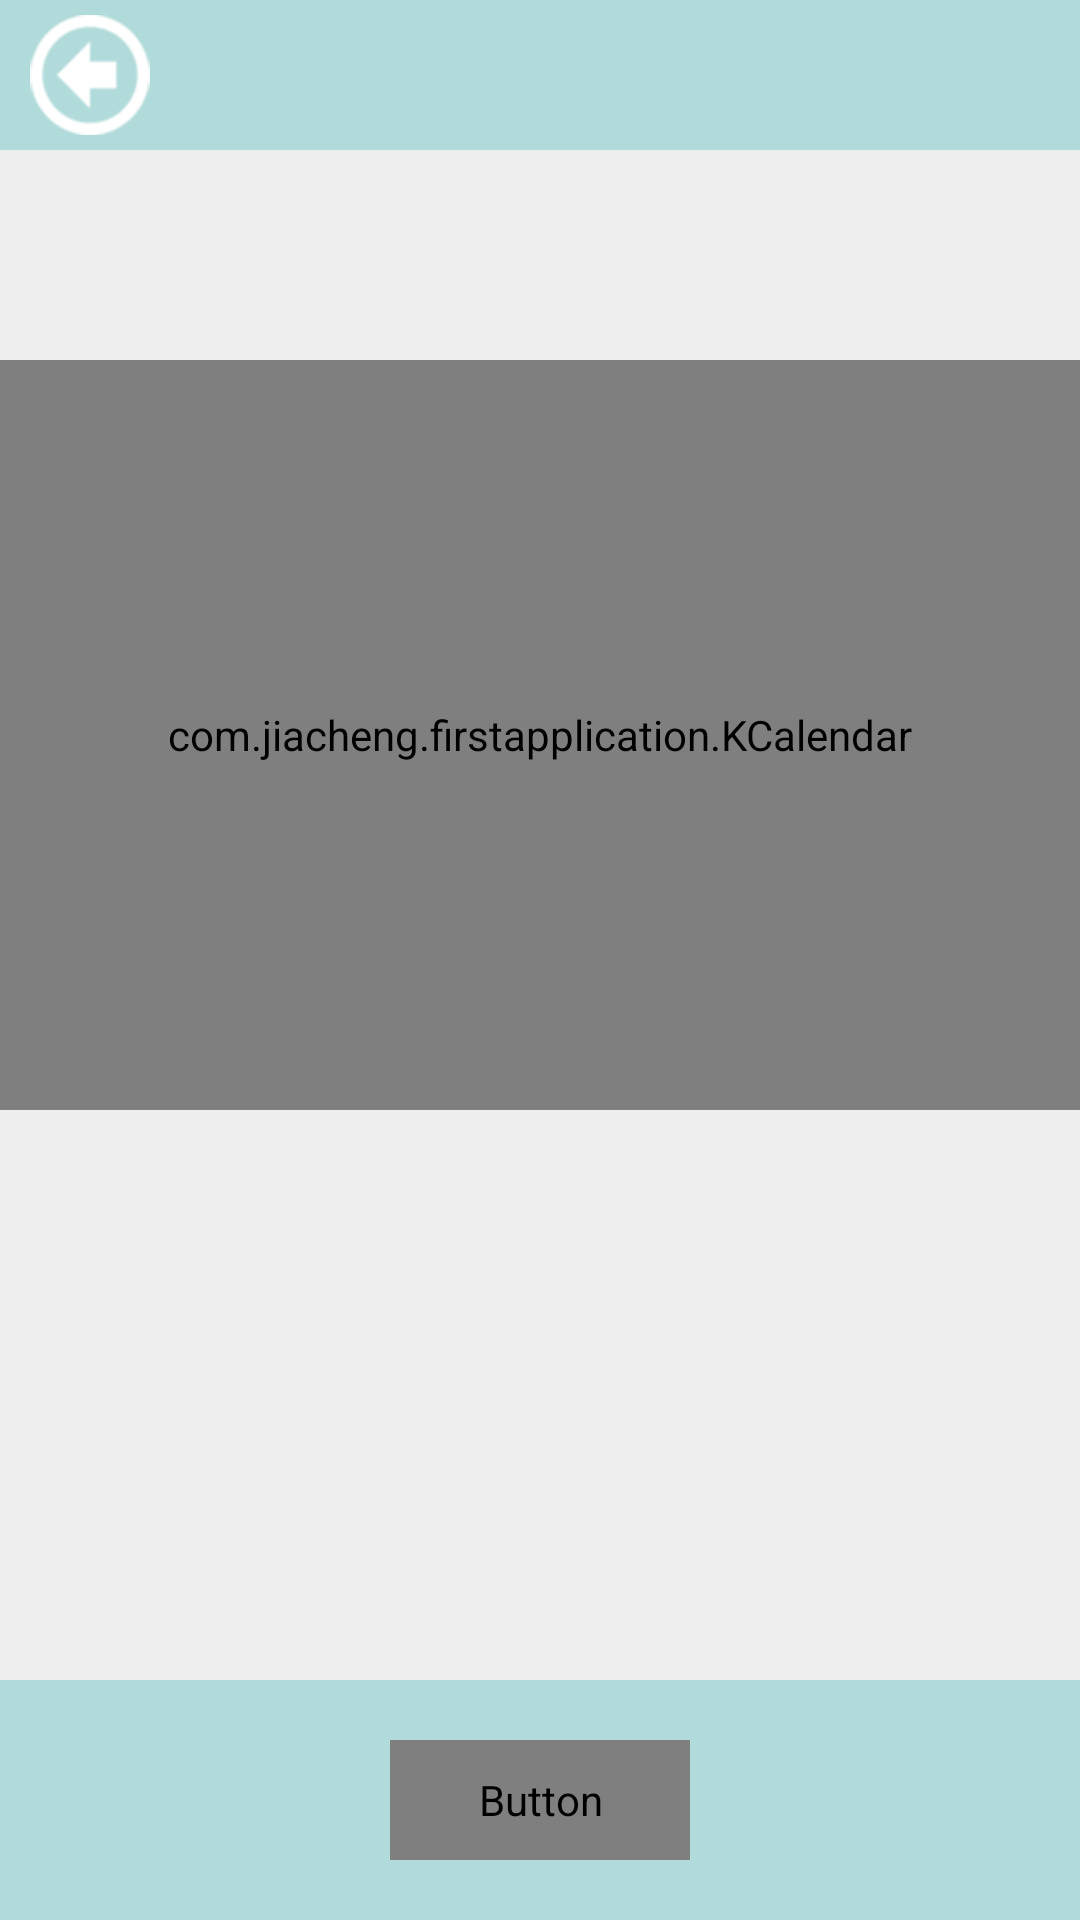

Icons on this 1080 × 1920 Android screen, each with the point to tap as point (x, y):
back: point (90, 75)
